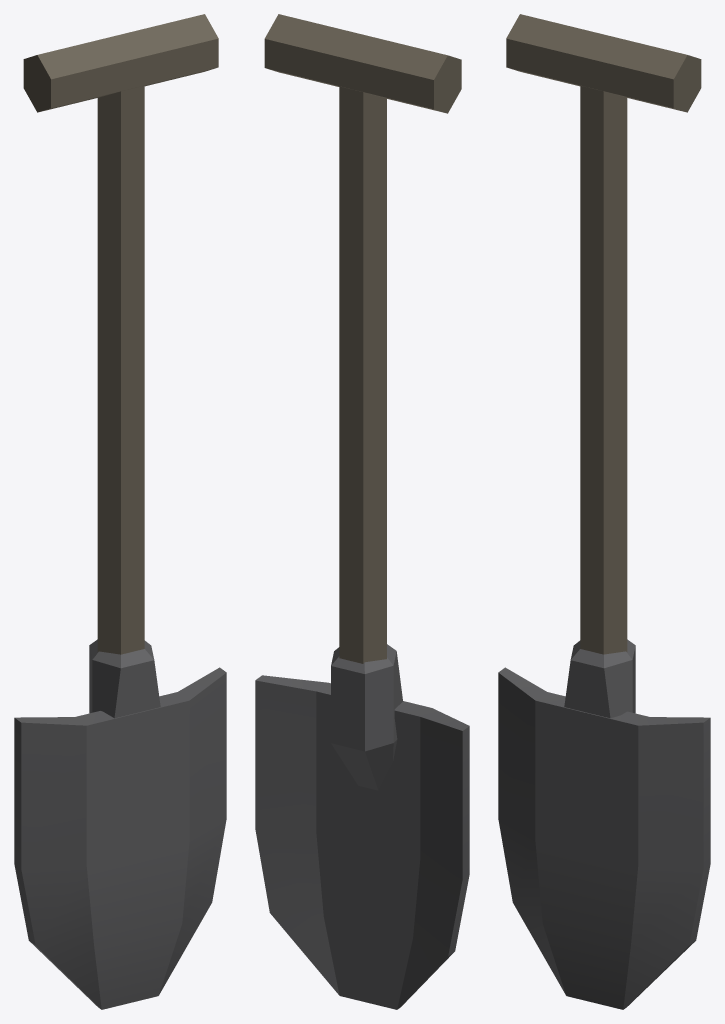
Rendered from Tool_Shovel.fbx.
3 views of the same model, side by side, from view 1: azimuth 30°, elevation 25°; view 2: azimuth 150°, elevation 25°; view 3: azimuth 330°, elevation 25° (orthographic).
Visible parts, largest first — view 1: Shovel; view 2: Shovel; view 3: Shovel.
Boxes of the visible parts, left/top/right/bottom form: Shovel: left=14, top=14, right=226, bottom=1009; Shovel: left=255, top=14, right=469, bottom=1009; Shovel: left=498, top=14, right=710, bottom=1009.
Size of the model in its own units: 28.65 by 7.74 by 128.
